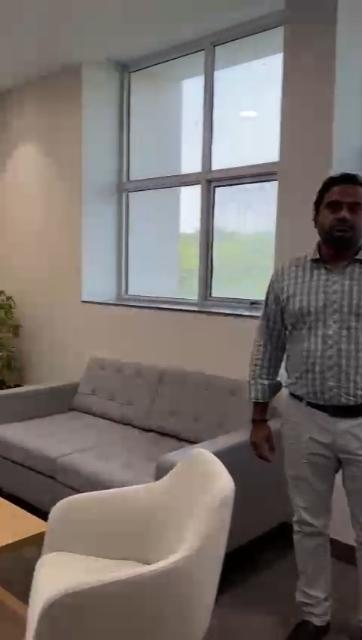moving-obj: (250, 174, 361, 634)
object: (1, 361, 251, 505), (30, 472, 232, 640), (2, 284, 34, 398)
wall: (0, 90, 74, 286), (27, 307, 246, 353), (288, 0, 318, 236)
